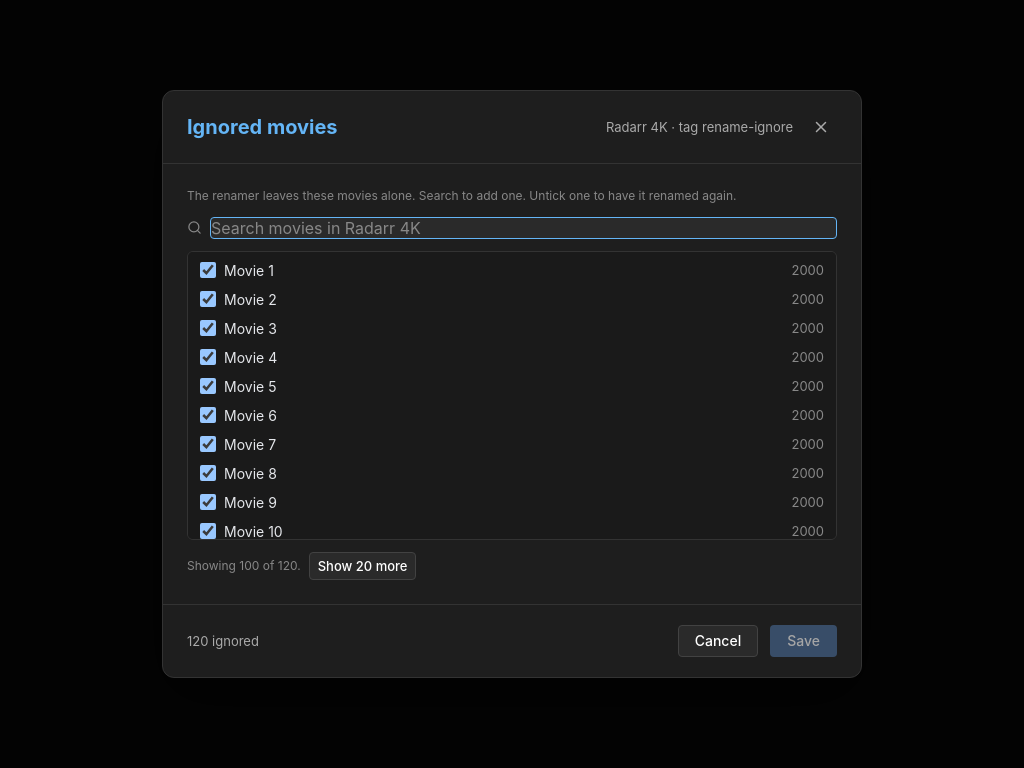
Test: RenameTagModal › lists the tagged items and search matches 100 at a time, with Show more for the rest
The image size is (1024, 768).
Later steps or results of the test are not shown.
expect the text "Showing 100 of 120." is shown: met, box [187,558,301,574]
Click the button "Show 20 more".
click(363, 566)  # box [309,552,416,580]
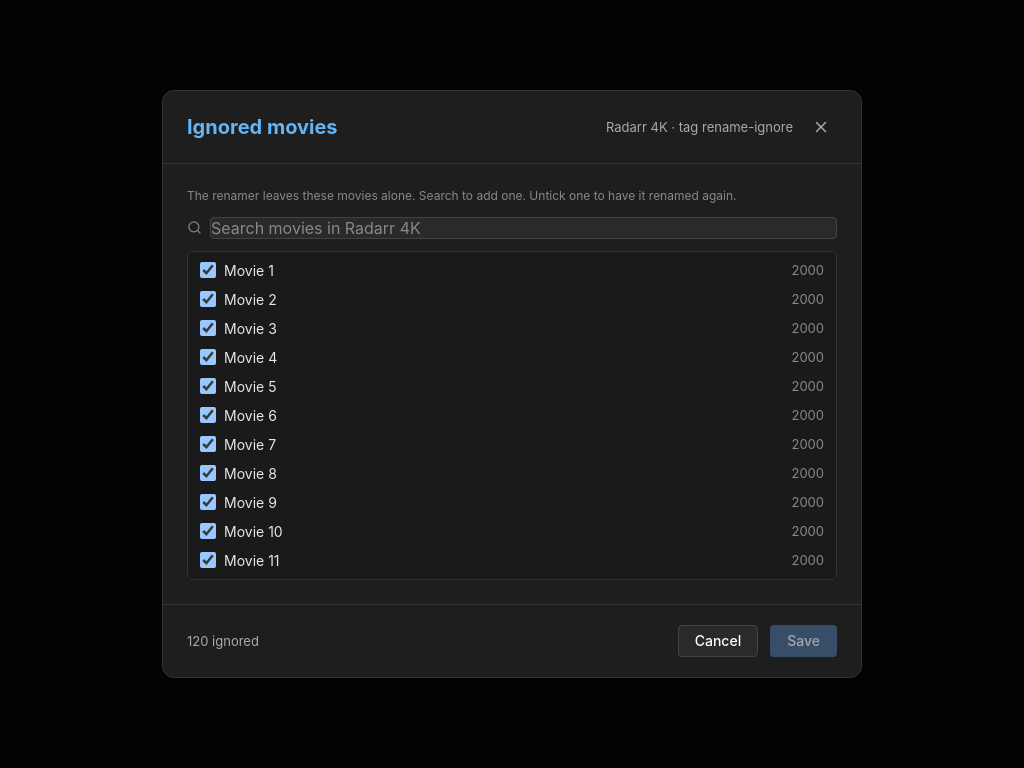
expect the button "Show 20 more" is gone: met
Type "movie" into the search field labelled "Search movies".
click(524, 228); type("movie")  # box [210,217,837,239]
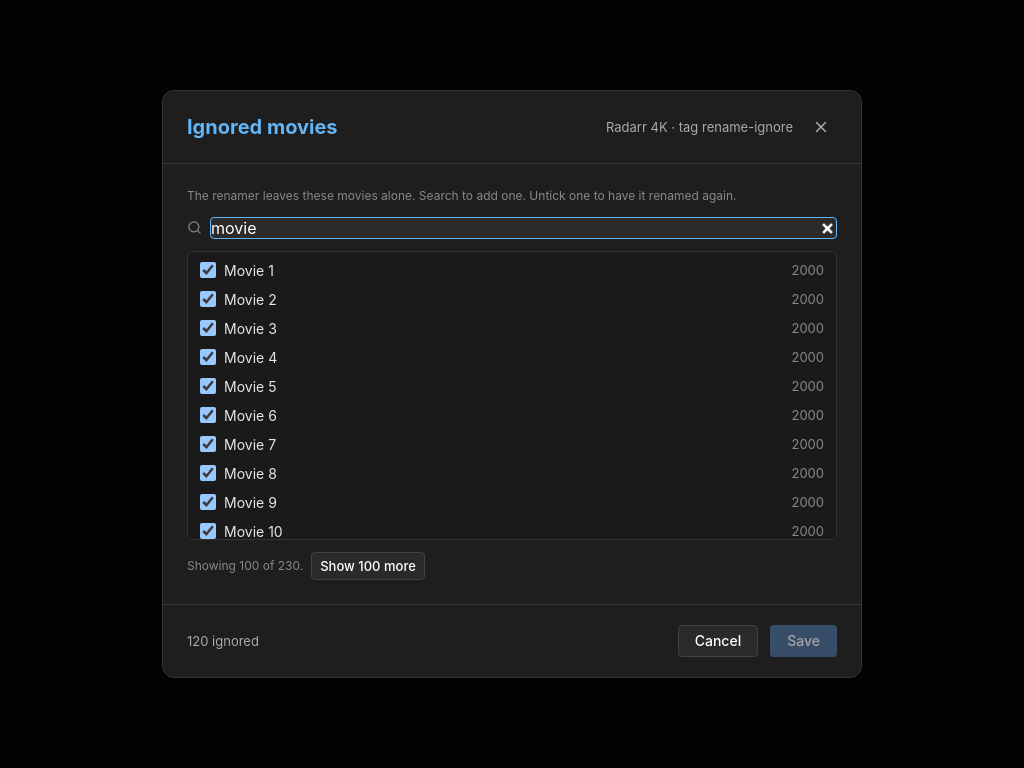
expect the text "Showing 100 of 230." is shown: met, box [187,558,303,574]
Click the button "Show 100 more".
click(368, 566)  # box [311,552,425,580]
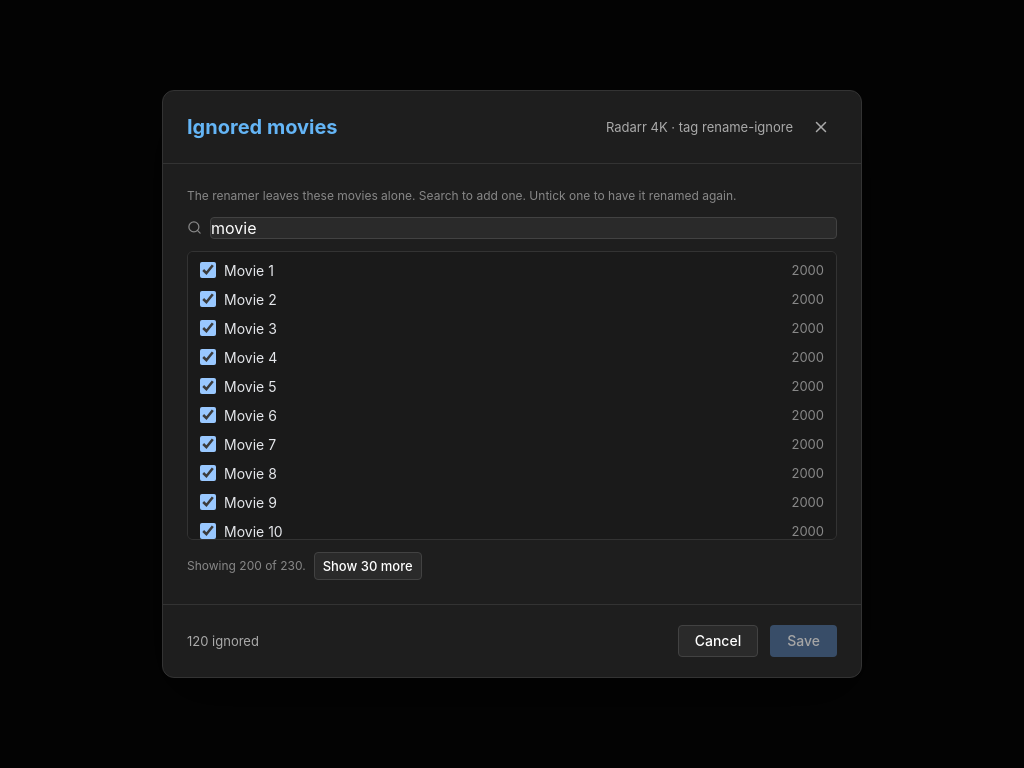
Click the button "Show 30 more".
click(368, 566)  # box [314,552,422,580]
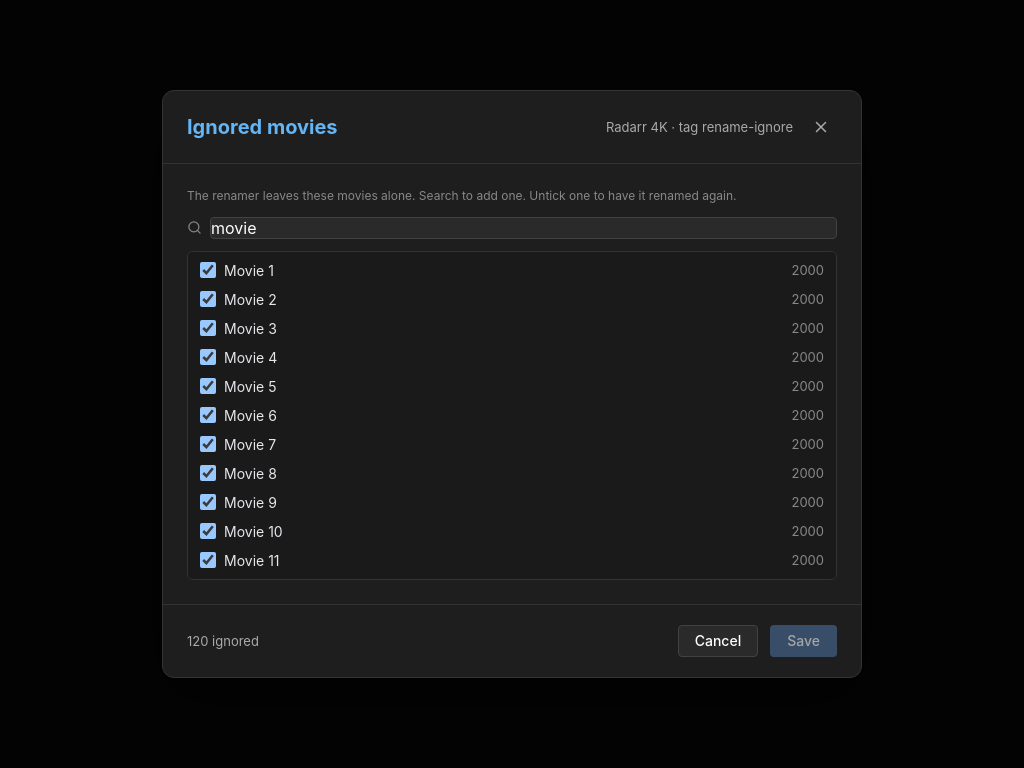
expect the text "Showing " is gone: met
